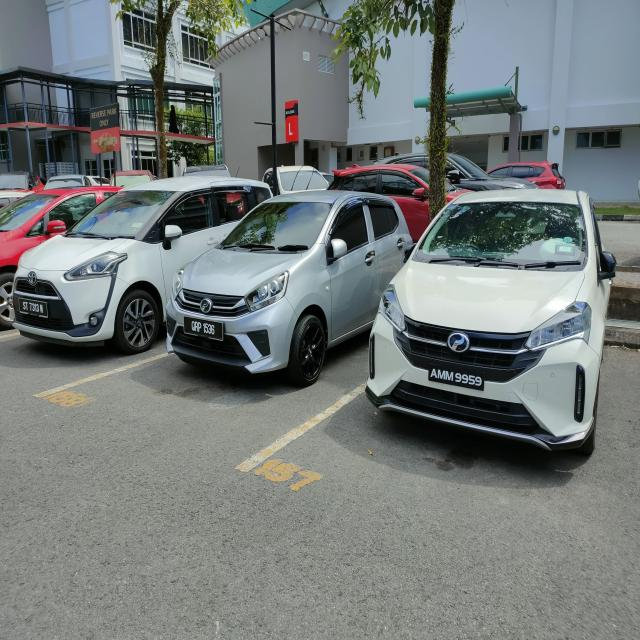PeroduaAxia: (166, 189, 420, 385)
PeroduaMyvi: (364, 182, 619, 472)
